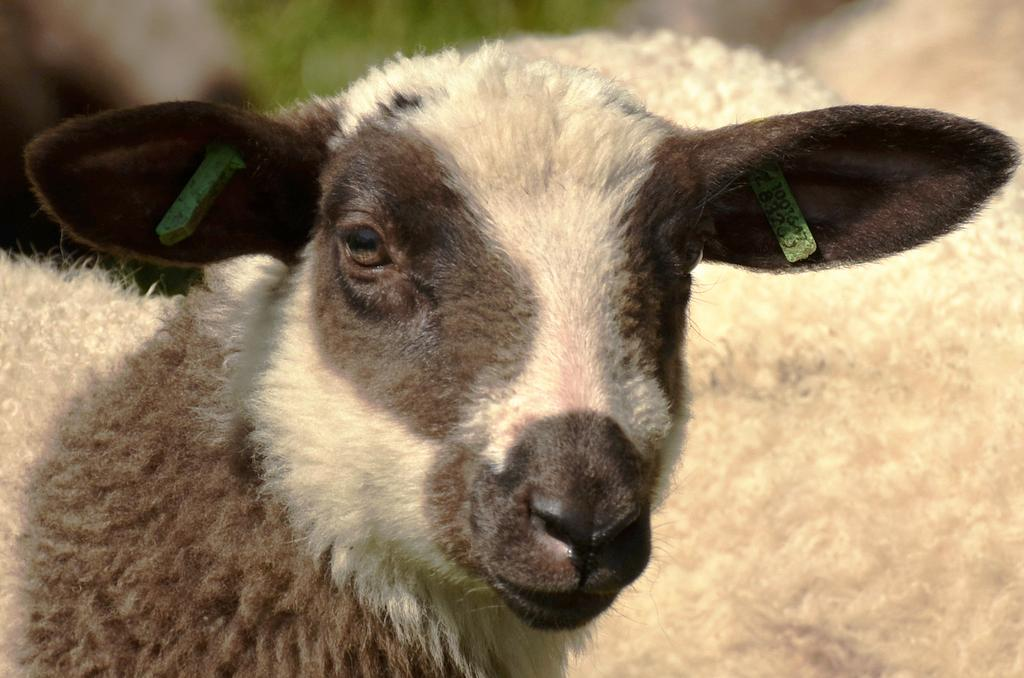Sheep: (0, 23, 1024, 676)
